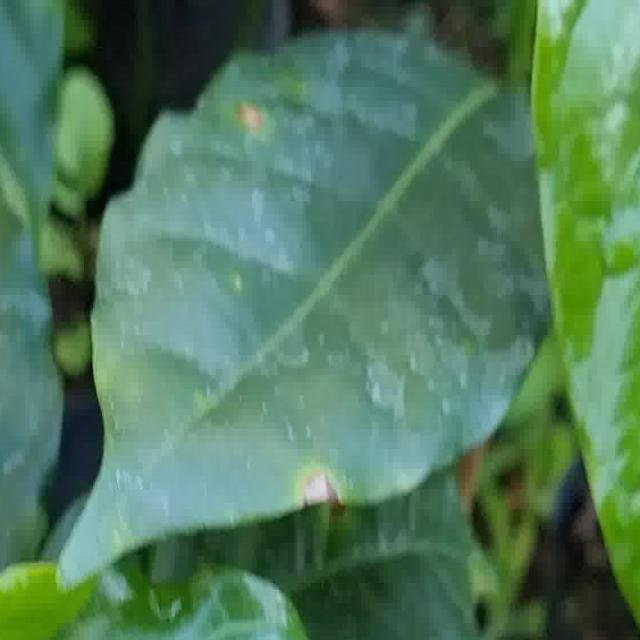leaves: (1, 11, 575, 583)
